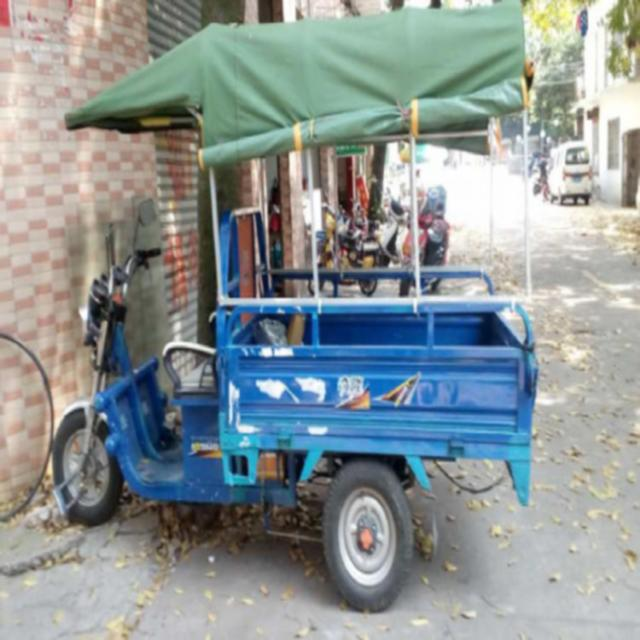car: (546, 140, 592, 207)
motorbike: (308, 190, 382, 295), (397, 202, 451, 294)
tricycle: (47, 0, 537, 613)
